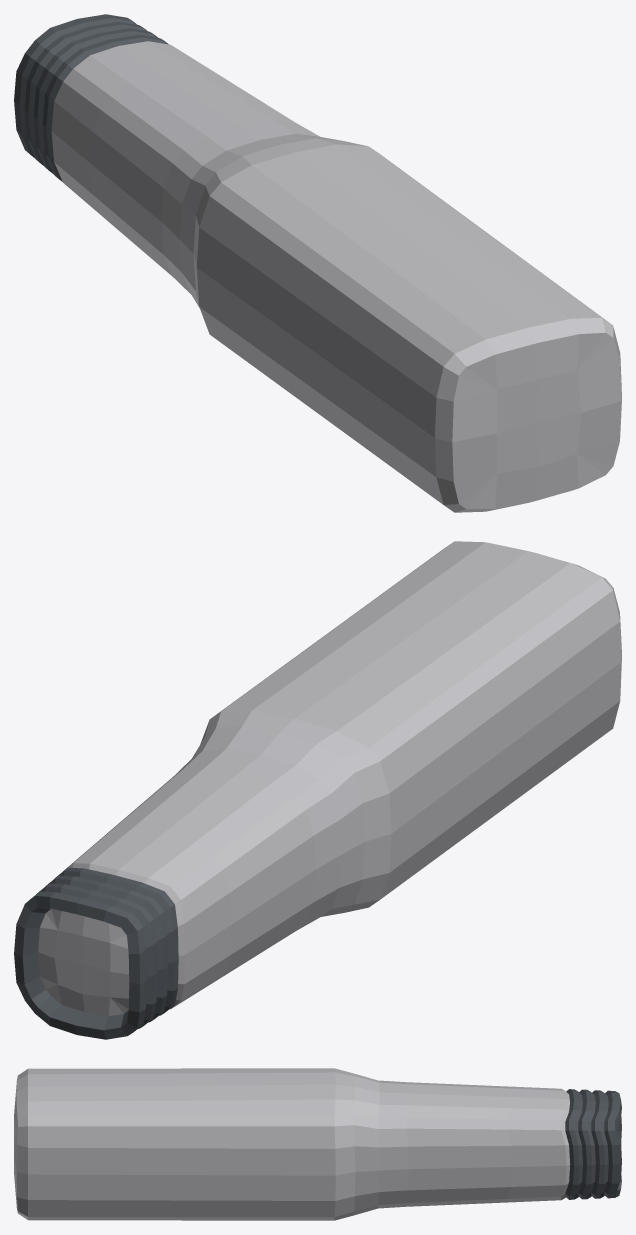
Rendered from Mothership_02_Central_Body.fbx.
3 renders of one model, top to bottom at view 1: azimuth 30°, elevation 25°; view 2: azimuth 150°, elevation 25°; view 3: azimuth 270°, elevation 25°, orthographic. The views are drawn at different scales.
Parts seen in each view (by area): view 1: Mothership_02_Central_Body; view 2: Mothership_02_Central_Body; view 3: Mothership_02_Central_Body.
Boxes of the visible parts, left/top/right/bottom form: Mothership_02_Central_Body: left=14, top=14, right=621, bottom=512; Mothership_02_Central_Body: left=14, top=541, right=621, bottom=1039; Mothership_02_Central_Body: left=14, top=1068, right=621, bottom=1220.
Size of the model in its own units: 984 by 881 by 4050.
Materials: 1 (1 with a texture image).
